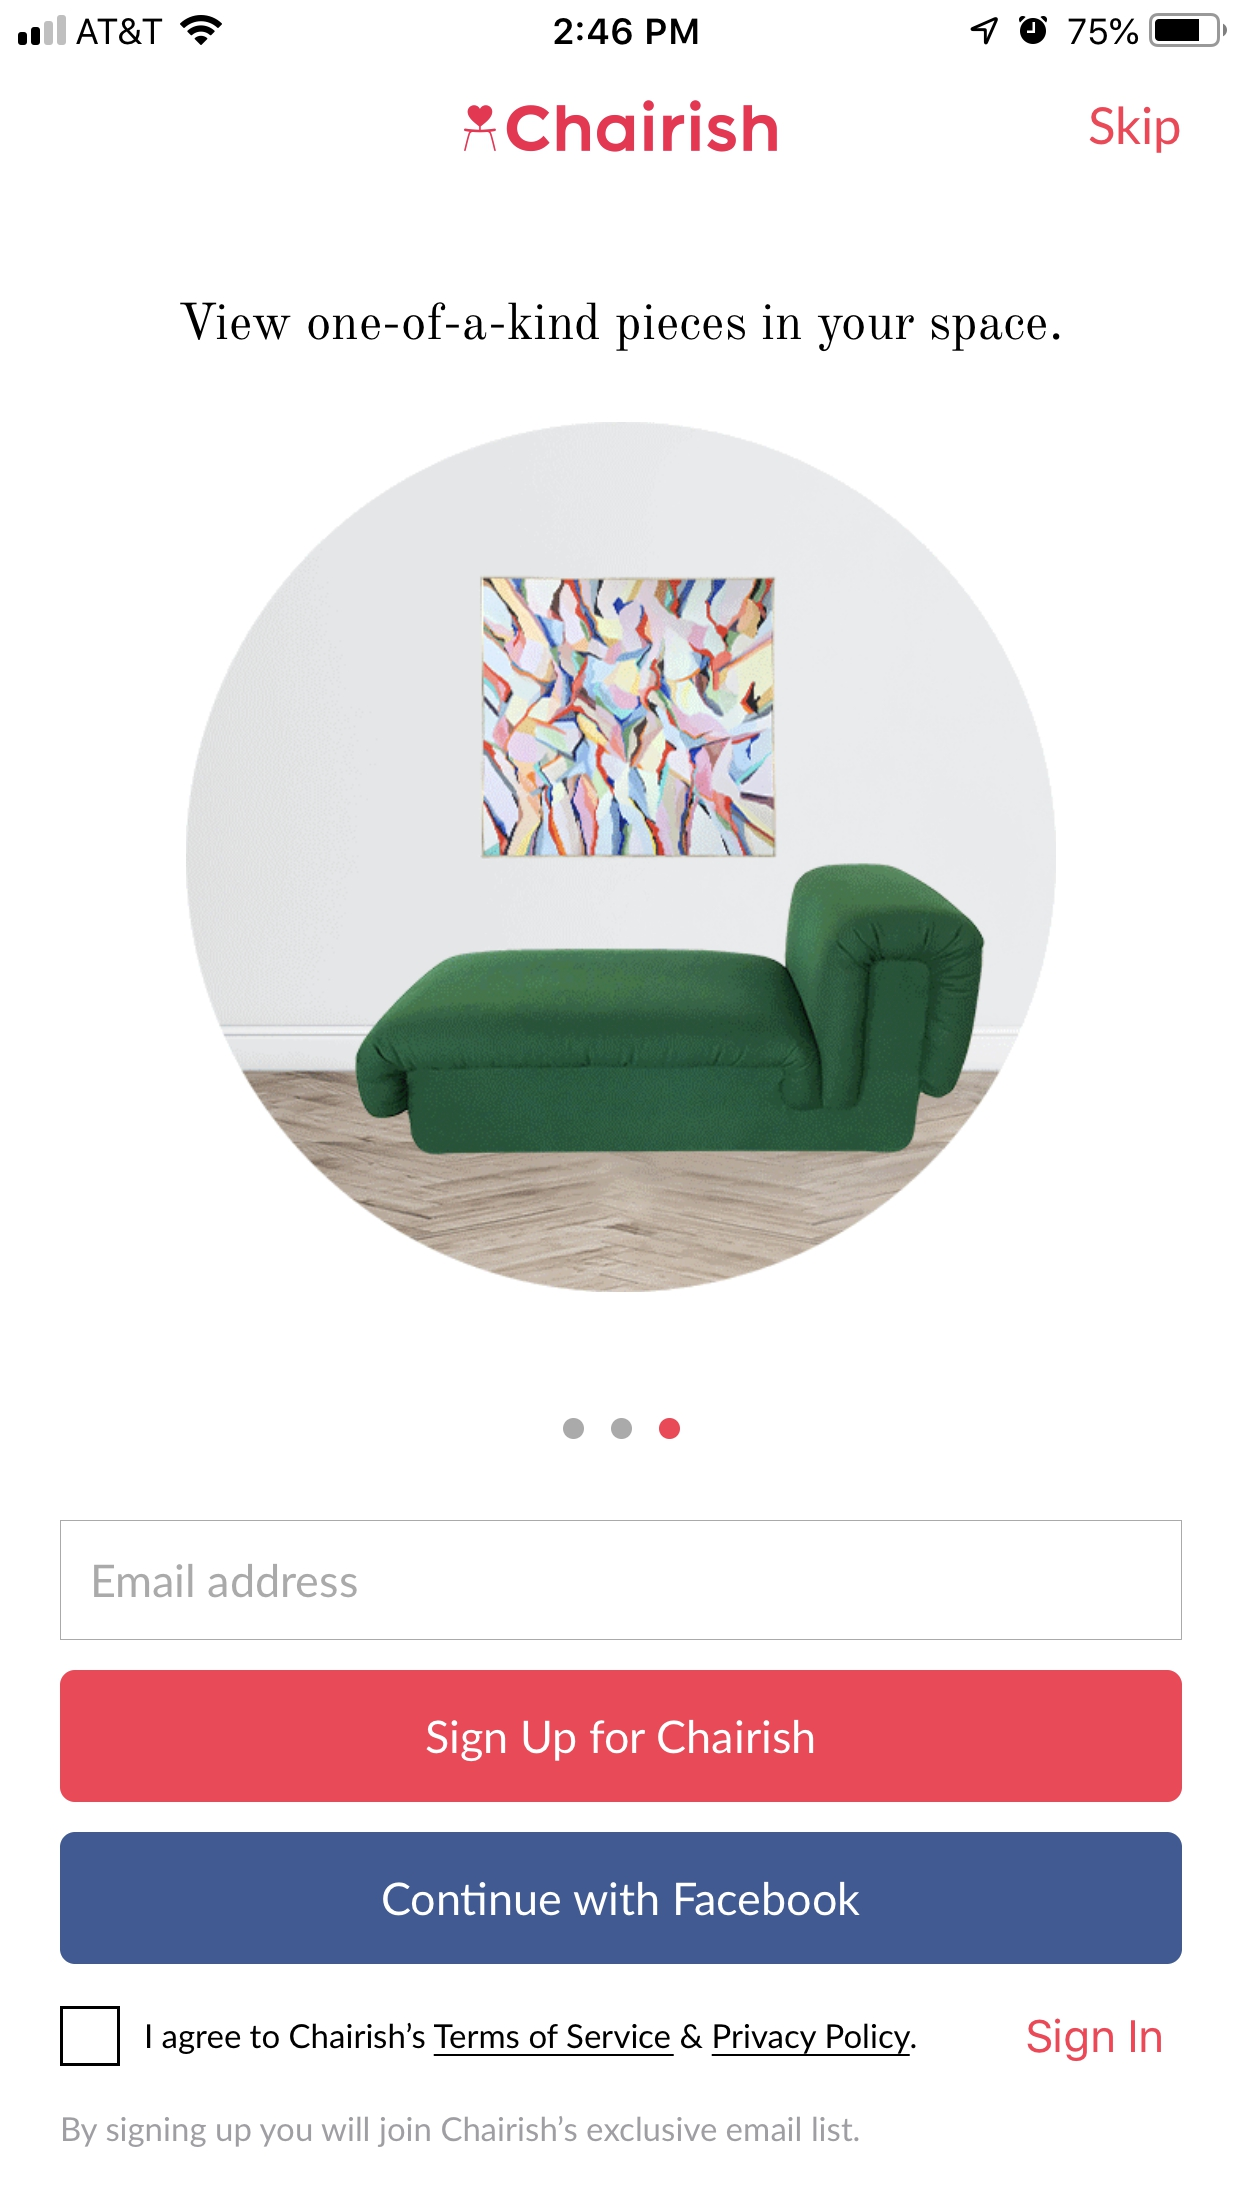CheckedTextView: (61, 2005, 1162, 2067)
EditText: (61, 1520, 1183, 1641)
Image: (187, 422, 1057, 1294), (464, 105, 497, 153)
PageIndicator: (563, 1416, 681, 1441)
Text: (180, 302, 1060, 353), (147, 2021, 917, 2056), (64, 2115, 858, 2147), (507, 100, 779, 155), (94, 1563, 358, 1598), (1027, 2017, 1162, 2062), (1089, 106, 1180, 155)
TextButton: (61, 1830, 1183, 1965), (61, 1670, 1183, 1803)
UpperTaskBar: (2, 2, 1242, 49)
